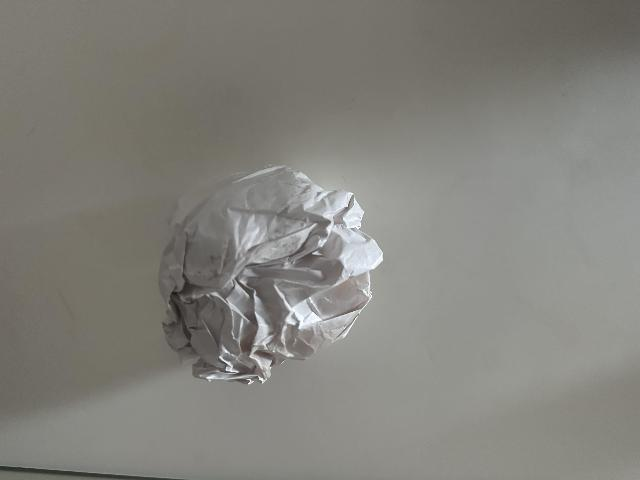Kagit: (158, 162, 386, 390)
